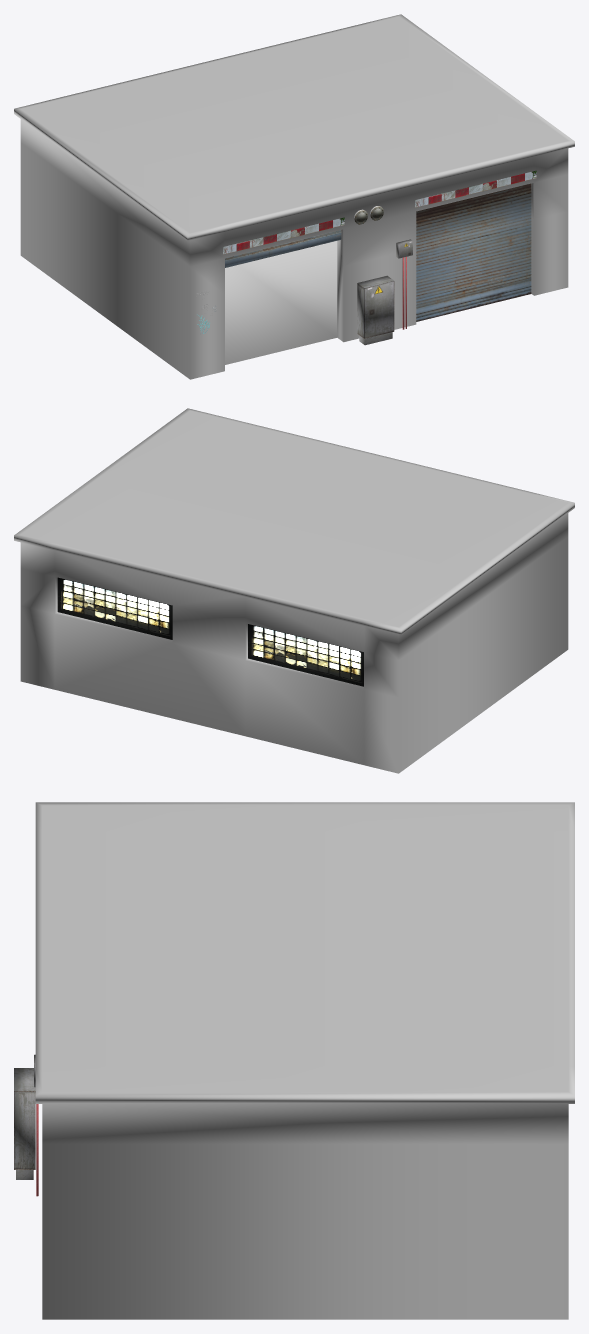
Rendered from Garage.fbx.
3 views of the same model, one above another, from view 1: azimuth 30°, elevation 25°; view 2: azimuth 150°, elevation 25°; view 3: azimuth 270°, elevation 25° (orthographic). The views are drawn at different scales.
Parts seen in each view (by area): view 1: Mesh; view 2: Mesh; view 3: Mesh.
Boxes of the visible parts, x1,y1,x2,y2 form: Mesh: (14,14,574,379); Mesh: (14,408,574,773); Mesh: (14,802,574,1319).
Bounding box in the file's own units: 1069 × 387 × 865.
